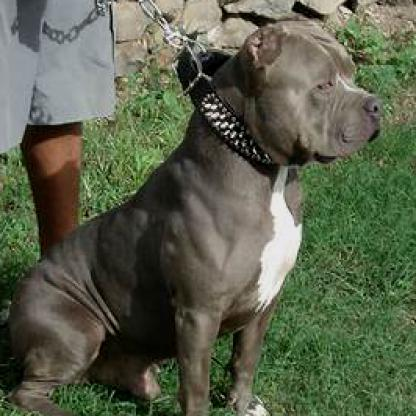dog: (5, 22, 382, 414)
